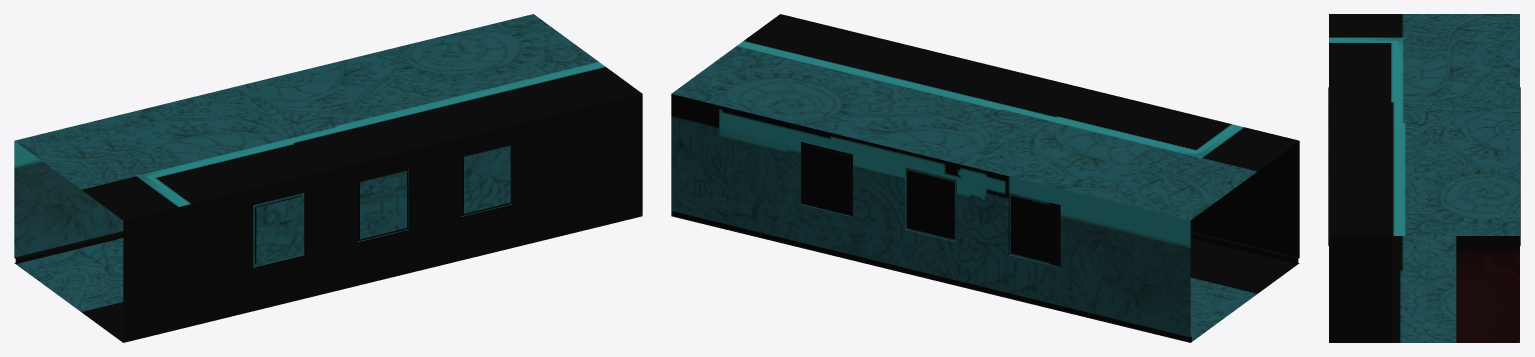
The model's file is koridorSol1.fbx.
3 views of the same model, side by side, from view 1: azimuth 30°, elevation 25°; view 2: azimuth 150°, elevation 25°; view 3: azimuth 270°, elevation 25° (orthographic). The views are drawn at different scales.
Parts seen in each view (by area): view 1: solİlk; view 2: solİlk; view 3: solİlk.
Boxes of the visible parts, bbox=[...] form: solİlk: bbox=[14, 14, 642, 342]; solİlk: bbox=[671, 14, 1299, 342]; solİlk: bbox=[1328, 14, 1520, 342].
Bounding box in the file's own units: 2000 × 450 × 733.
